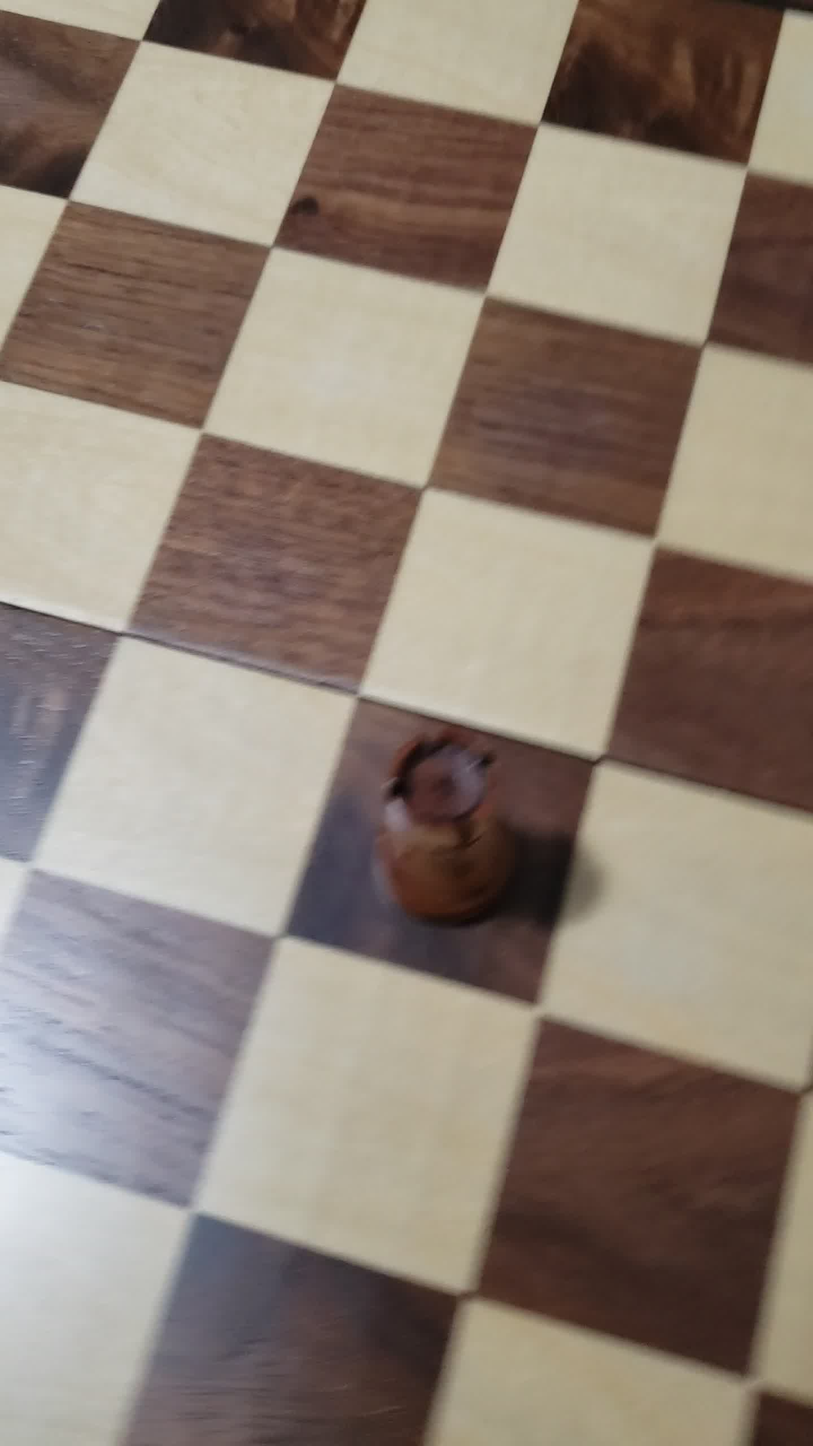black-rook: (336, 724, 561, 956)
